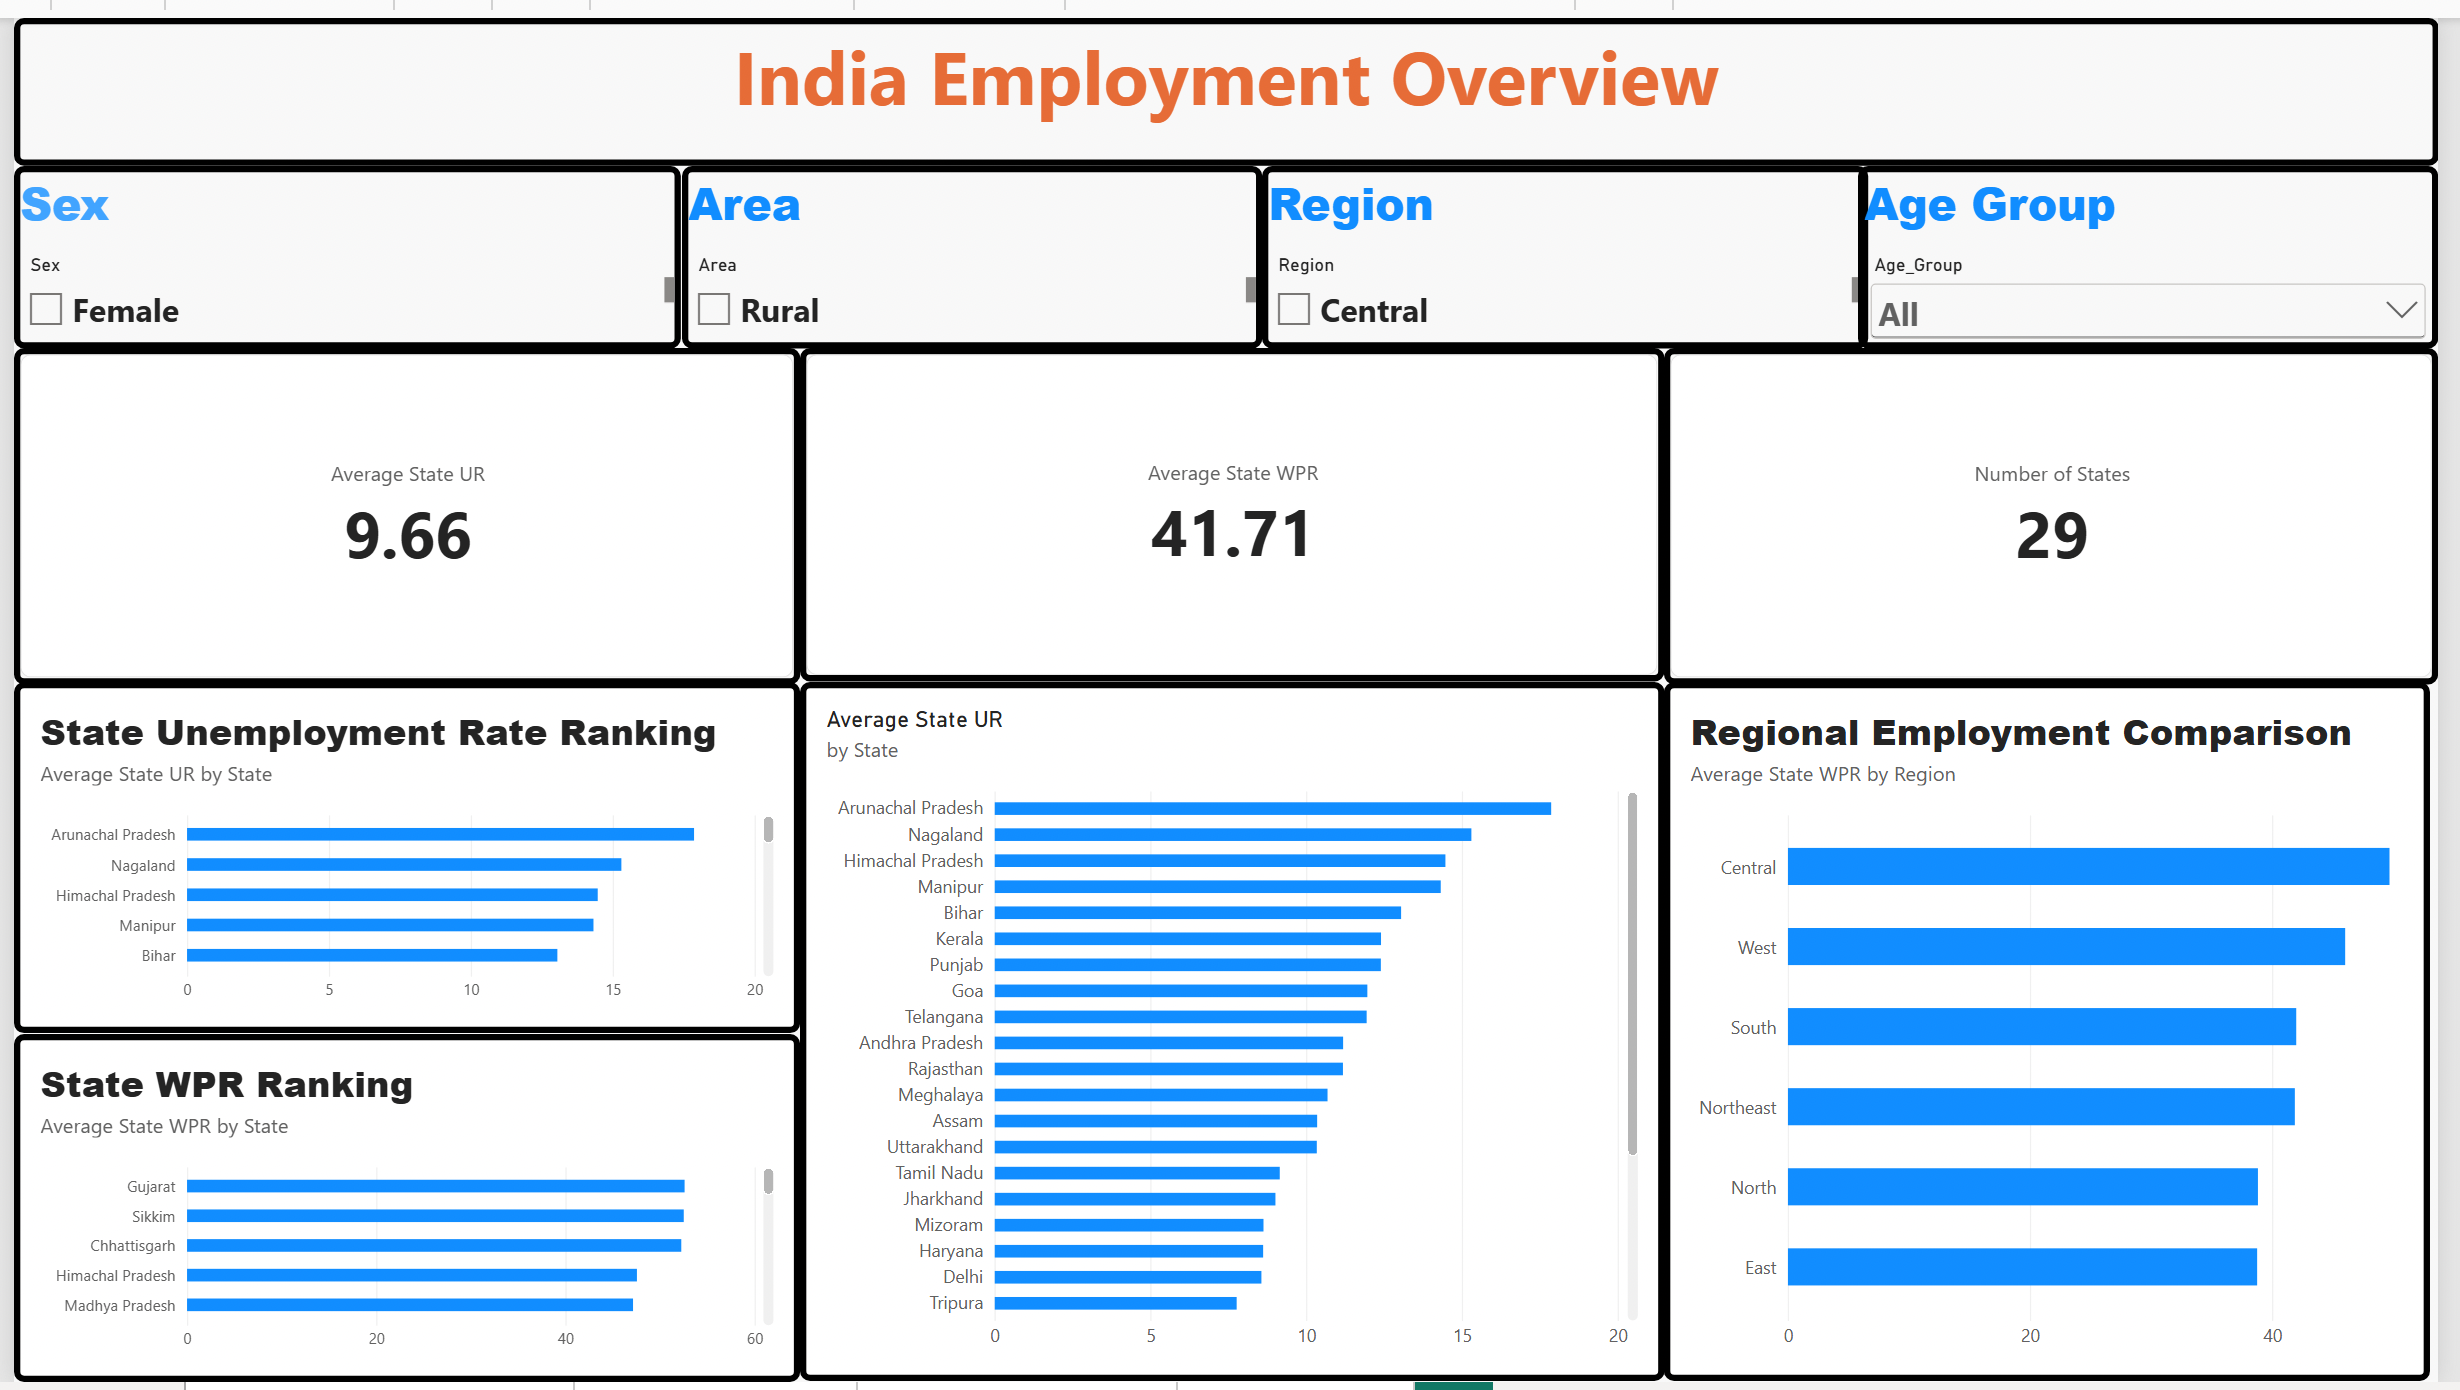

Layout of this report page (visuals, bound fields, positions):
{"tool":"powerbi","page":{"name":"India Employment Overview","canvas":[1920,1080],"ordinal":0},"visuals":[{"type":"slicer","title":"Sex","fields":{"Values":["State_Labour_2025.Sex"]},"box":[0,117.1,528.2,144.7],"z":0},{"type":"slicer","title":"Area","fields":{"Values":["State_Labour_2025.Area"]},"box":[528.2,117.1,459.3,144.7],"z":1000},{"type":"slicer","title":"Region","fields":{"Values":["State_Labour_2025.Region"]},"box":[987.6,117.1,480,144.7],"z":2000},{"type":"textbox","box":[0,0,1920,117.1],"z":3000},{"type":"cardVisual","fields":{"Data":["State_Labour_2025.Average State UR"]},"box":[0,261.8,622.4,266.4],"z":4000},{"type":"cardVisual","fields":{"Data":["State_Labour_2025.Average State WPR"]},"box":[622.4,261.8,684.4,264.1],"z":5000},{"type":"cardVisual","fields":{"Data":["State_Labour_2025.Number of States"]},"box":[1306.8,261.8,613.2,266.4],"z":6000},{"type":"slicer","title":"Age Group","fields":{"Values":["State_Labour_2025.Age_Group"]},"box":[1460.7,117.1,459.3,144.7],"z":7000},{"type":"clusteredBarChart","title":"State Unemployment Rate Ranking","fields":{"Category":["State_Labour_2025.State"],"Y":["State_Labour_2025.Average State UR"]},"box":[0,525.9,622.4,277.9],"z":8000},{"type":"clusteredBarChart","title":"State WPR Ranking","fields":{"Category":["State_Labour_2025.State"],"Y":["State_Labour_2025.Average State WPR"]},"box":[0,803.8,622.4,275.6],"z":9000},{"type":"clusteredBarChart","title":"Regional Employment Comparison","fields":{"Category":["State_Labour_2025.Region"],"Y":["State_Labour_2025.Average State WPR"]},"box":[1306.8,525.9,606.3,553.5],"z":10000},{"type":"barChart","fields":{"Category":["State_Labour_2025.State"],"Y":["State_Labour_2025.Average State UR"]},"box":[622.4,525.9,684.4,553.5],"z":11000}]}

Visuals, with their boxes in screenshot pixels (x1, y1, x2, y2), scaled from the page's 1920x1080 canvas onto the 2460x1390 screenshot:
"Sex" slicer: locate(0, 151, 677, 337)
"Area" slicer: locate(677, 151, 1265, 337)
"Region" slicer: locate(1265, 151, 1880, 337)
textbox: locate(0, 0, 2459, 151)
cardVisual - State_Labour_2025.Average State UR: locate(0, 337, 797, 680)
cardVisual - State_Labour_2025.Average State WPR: locate(797, 337, 1674, 677)
cardVisual - State_Labour_2025.Number of States: locate(1674, 337, 2459, 680)
"Age Group" slicer: locate(1872, 151, 2459, 337)
"State Unemployment Rate Ranking" clusteredBarChart: locate(0, 677, 797, 1035)
"State WPR Ranking" clusteredBarChart: locate(0, 1035, 797, 1389)
"Regional Employment Comparison" clusteredBarChart: locate(1674, 677, 2451, 1389)
barChart - State_Labour_2025.State x State_Labour_2025.Average State UR: locate(797, 677, 1674, 1389)
